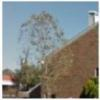chimneys: (88, 9, 97, 28)
